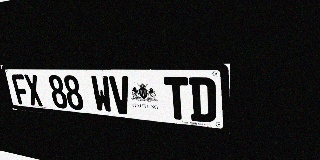8: (62, 75, 84, 110), (47, 75, 69, 109)
D: (189, 77, 216, 123)
F: (11, 74, 31, 105)
T: (164, 77, 190, 121)
V: (109, 76, 133, 115)
W: (90, 75, 113, 113)
X: (23, 74, 44, 107)
